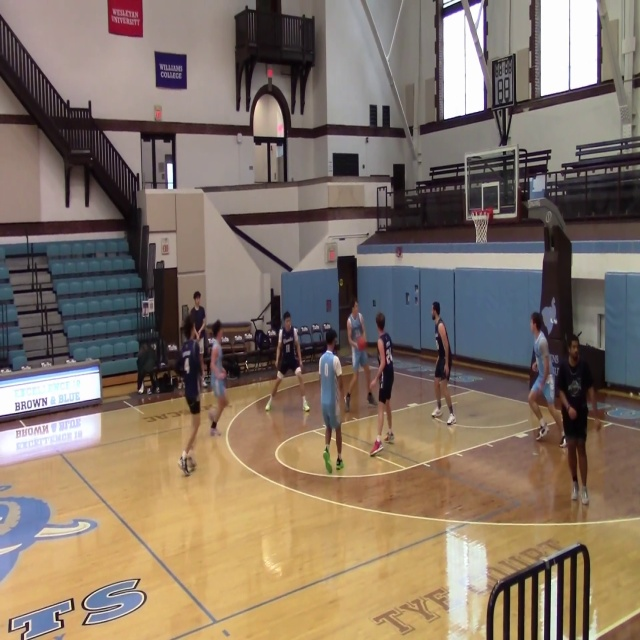Basketball: (208, 408, 218, 422), (356, 337, 366, 350), (567, 408, 577, 419)
